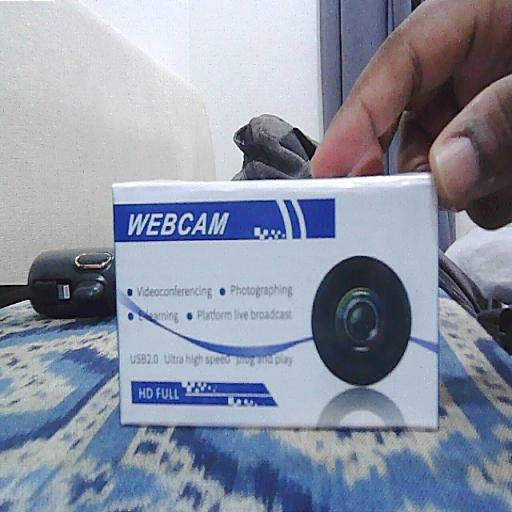webcam_box: (112, 174, 439, 432)
